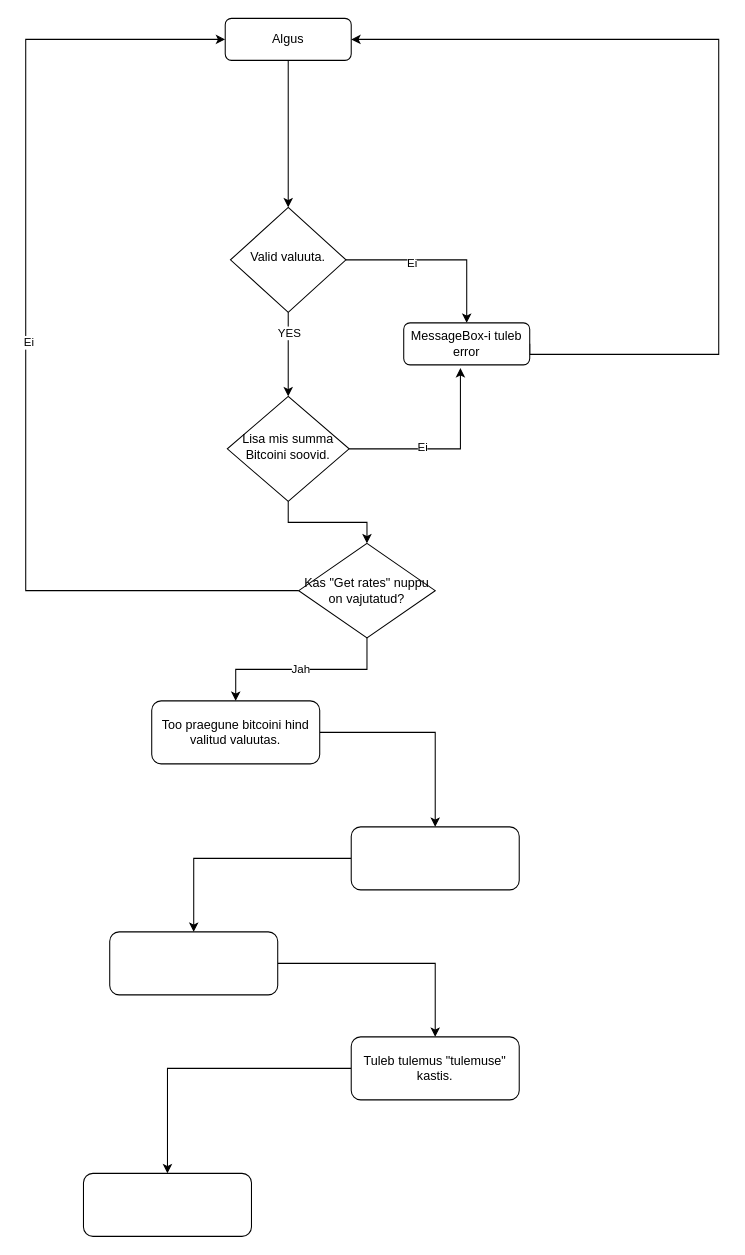
Image size: 745x1255. Some labels were removed from this diagram. Each missing label, with the centre of its shape:
"Korruta bitcoini kogus selle hinnaga." goes at [193,963].
"Lõpp" goes at [166,1204].
"Nii mitu Bitcoini on pandud, siis sellele tuleb summa." goes at [434,858].
